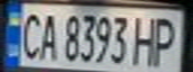3: (109, 12, 133, 65), (78, 11, 96, 63)
8: (60, 10, 81, 62)
9: (93, 11, 115, 64)
A: (36, 9, 60, 61)
C: (15, 8, 45, 61)
H: (130, 12, 163, 66)
P: (148, 12, 187, 68)
